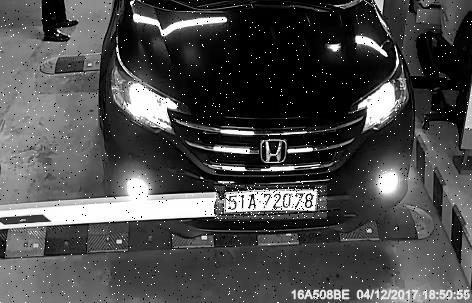License-plate: (216, 186, 330, 220)
